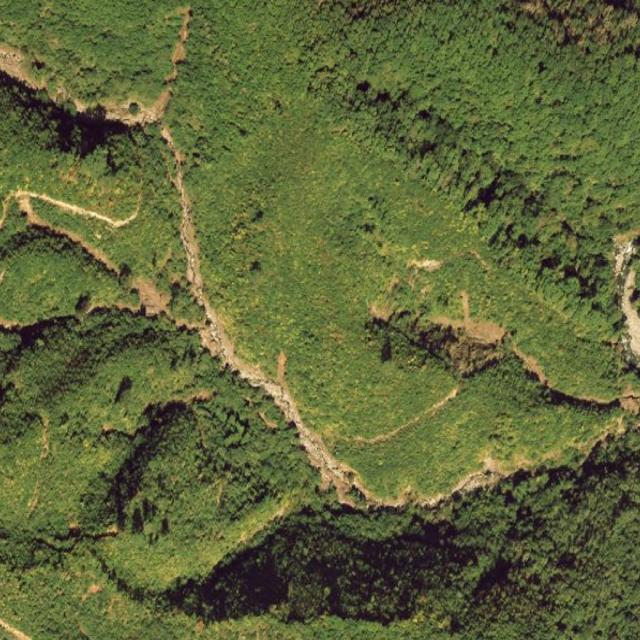landslide: (0, 6, 414, 508), (0, 7, 404, 506), (0, 188, 169, 315), (0, 189, 142, 279), (411, 316, 511, 378), (355, 386, 460, 445), (415, 457, 506, 507), (623, 268, 640, 359), (129, 276, 169, 314)
